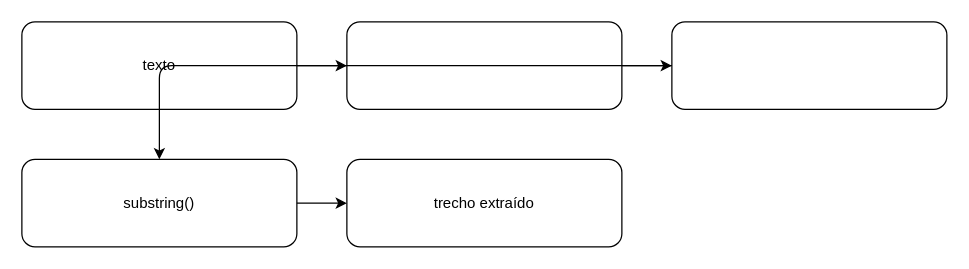
The diagram is 969 pixels wide and 269 high, and some of its shapes have lost their labels. The centre of each missing label's shape, as x and y in pixels:
indexOf(): point 484,65
posição: point 809,65
